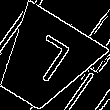L_SW: (16, 32, 73, 91)
